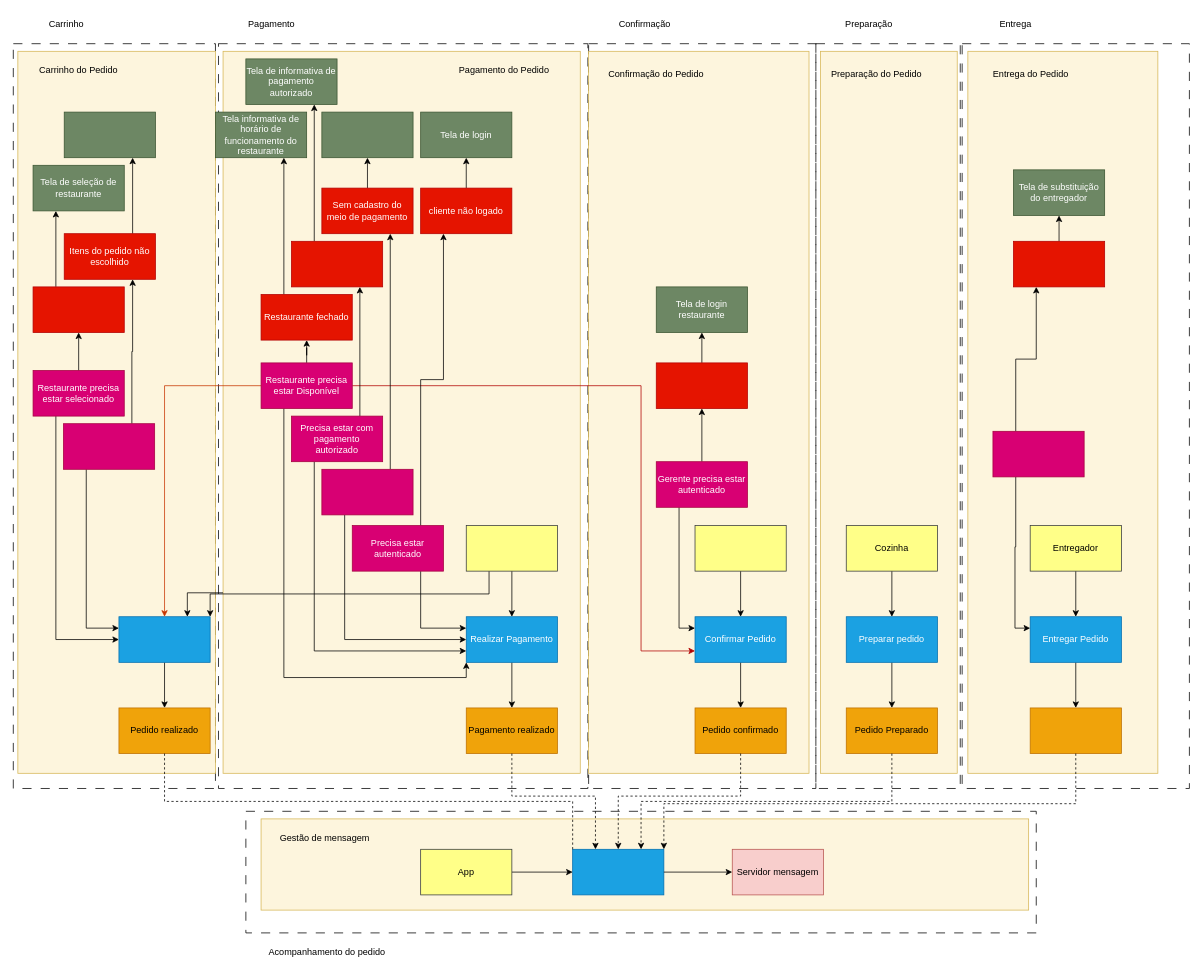
Some shapes in this 1203 by 976 pixel diagram are drawn without their labels. Here are the shapes that lost their labels. From the top down, the centre of each, then its label:
At [109,134]: "Tela de escolha dos itens do pedido".
At [367,134]: "Tela de cadastramento de meio de pagamento".
At [337,264]: "Pagamento não autorizado".
At [1059,264]: "Entregador indisponível".
At [78,309]: "Restaurante não escolhido".
At [701,385]: "gerente não logado".
At [109,446]: "OS Itens do pedido precisam estar selecionado".
At [1038,454]: "Entregador precisa estar disponível".
At [367,492]: "Precisa ter cadastrado meio de pagamento".
At [511,548]: "Cliente".
At [740,548]: "Reataurante".
At [164,639]: "Realizar Pedido".
At [1075,730]: "Pedido Entregue".
At [618,872]: "Enviar mensagem".
